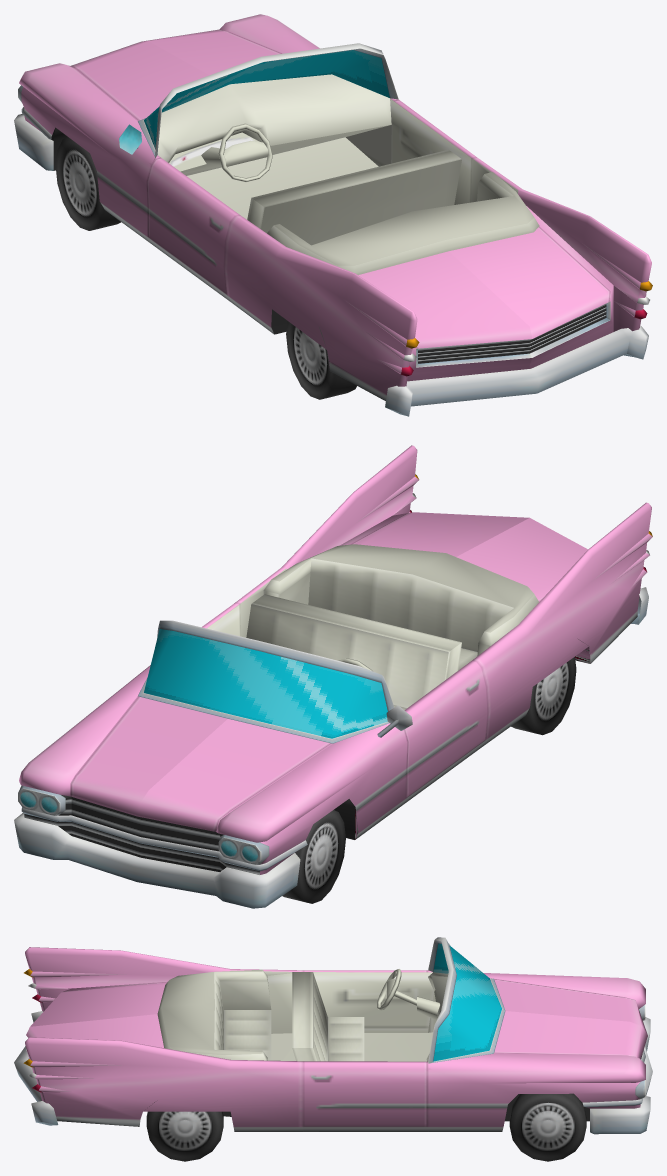
File: Planet Hype Car.obj
The picture shows the model from 3 angles, top to bottom: view 1: azimuth 30°, elevation 25°; view 2: azimuth 150°, elevation 25°; view 3: azimuth 270°, elevation 25°; orthographic projection. The views are drawn at different scales.
Parts seen in each view (by area): view 1: hype_vShape, DoorDRotShape, wShape0.002, wShape0.001; view 2: hype_vShape, DoorDRotShape, wShape0.002, wShape0.001; view 3: hype_vShape, DoorDRotShape, wShape0.003, wShape0.
Part boxes in pixels (x1=…): hype_vShape: x1=14, y1=14, x2=652, y2=416; DoorDRotShape: x1=146, y1=155, x2=239, y2=293; wShape0.002: x1=55, y1=137, x2=120, y2=230; wShape0.001: x1=286, y1=321, x2=356, y2=399; hype_vShape: x1=14, y1=445, x2=652, y2=908; DoorDRotShape: x1=404, y1=660, x2=487, y2=797; wShape0.002: x1=282, y1=810, x2=345, y2=903; wShape0.001: x1=511, y1=657, x2=576, y2=735; hype_vShape: x1=14, y1=937, x2=652, y2=1134; DoorDRotShape: x1=303, y1=970, x2=434, y2=1032; wShape0.003: x1=509, y1=1093, x2=586, y2=1161; wShape0: x1=146, y1=1111, x2=223, y2=1161.
Size of the model in its own units: 2.48 by 1.58 by 6.27.
Materials: 2 (2 with a texture image).
